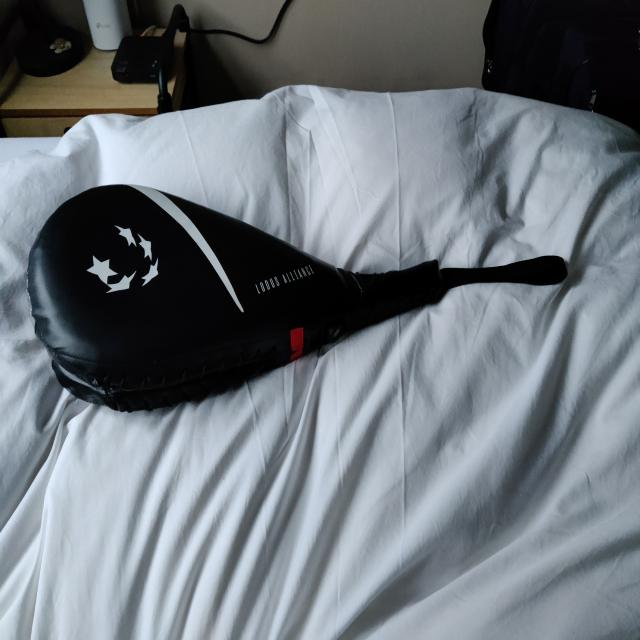paddle: (22, 180, 444, 422)
